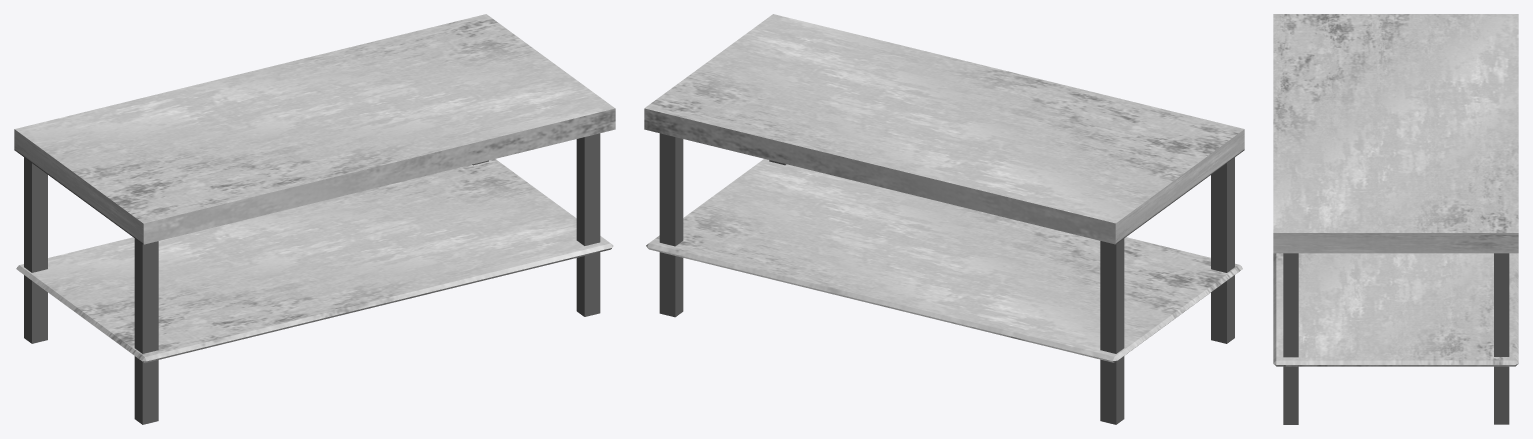
Rendered from table.fbx.
3 renders of one model, left to right at view 1: azimuth 30°, elevation 25°; view 2: azimuth 150°, elevation 25°; view 3: azimuth 270°, elevation 25°, orthographic. The views are drawn at different scales.
Parts seen in each view (by area): view 1: table2; view 2: table2; view 3: table2.
Part boxes in pixels (bbox=[...]): table2: bbox=[14, 14, 615, 424]; table2: bbox=[644, 14, 1244, 424]; table2: bbox=[1273, 14, 1518, 424].
Size of the model in its own units: 45.8 by 19.14 by 21.7.
